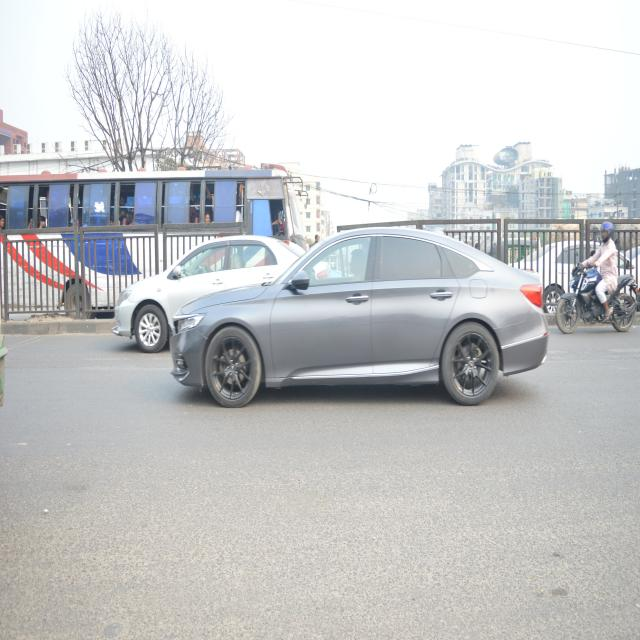bus: (0, 165, 309, 312)
car: (172, 236, 550, 422), (111, 245, 306, 351)
motorbike: (551, 256, 640, 344)
